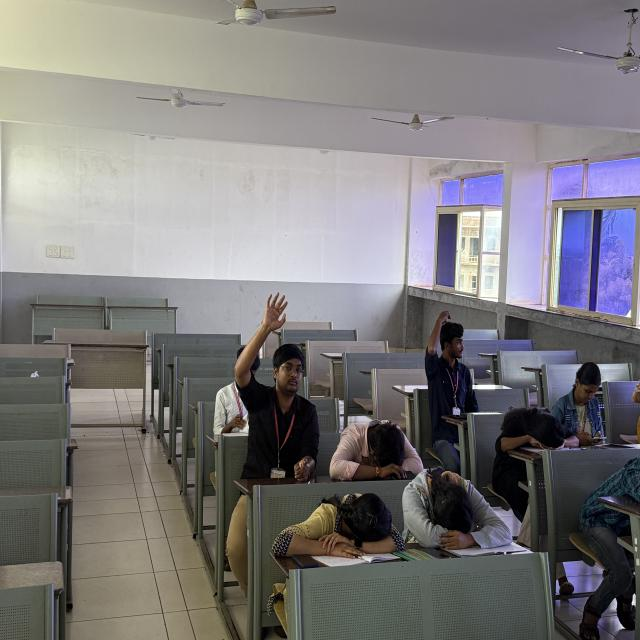Hand Rising: (236, 295, 330, 493)
Sleeping: (397, 450, 521, 584), (298, 477, 411, 591), (329, 377, 430, 494), (492, 395, 574, 487)
Using Phone: (559, 362, 621, 462)
